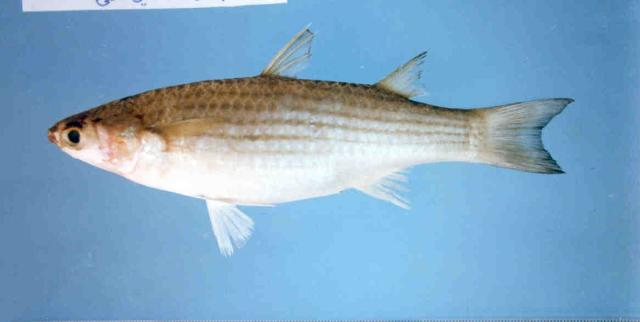Mulut: (36, 106, 68, 156)
Sirip Anal: (344, 148, 420, 212)
Sirip Dada: (146, 102, 232, 158)
Sirip Ekor: (479, 79, 586, 189)
Sirip Perut: (196, 183, 268, 273)
Sirip Punggung: (251, 13, 429, 103)
